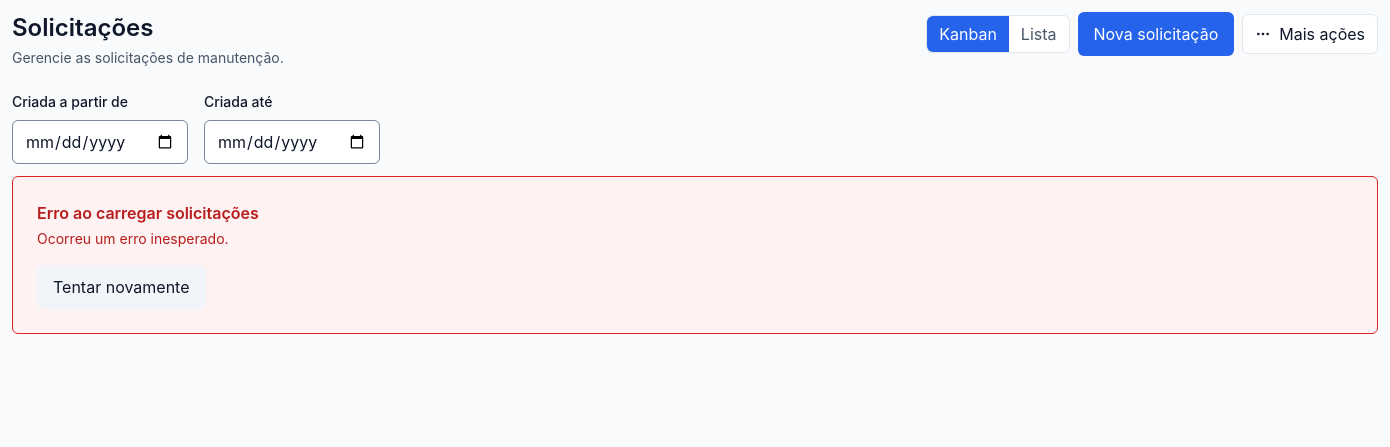
Test: SolicitacoesPage › shows error state in lista view
Click the button "Lista": (1039, 34) x1=1009 y1=16 x2=1069 y2=52
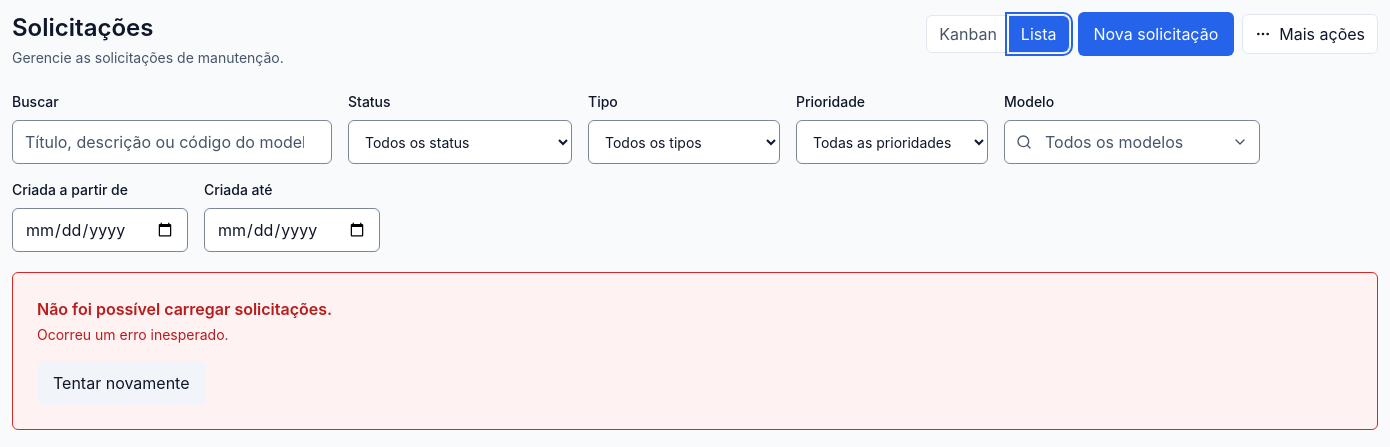
Now the heading "Não foi possível carregar solicitações." is shown, box x1=37 y1=299 x2=332 y2=319
